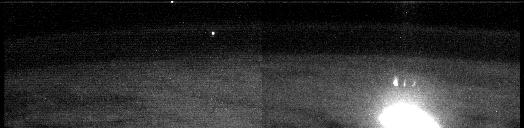positive: (387, 75, 416, 92)
